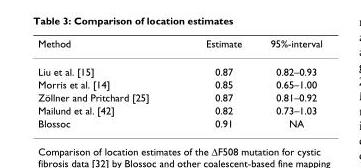table: (37, 37, 321, 128)
table column: (37, 37, 176, 128), (176, 37, 255, 128), (255, 37, 321, 128)
table column header: (37, 37, 321, 57)
table row: (37, 37, 321, 57), (37, 57, 321, 77), (37, 77, 321, 90), (37, 90, 321, 103), (37, 103, 321, 116), (37, 116, 321, 128)
